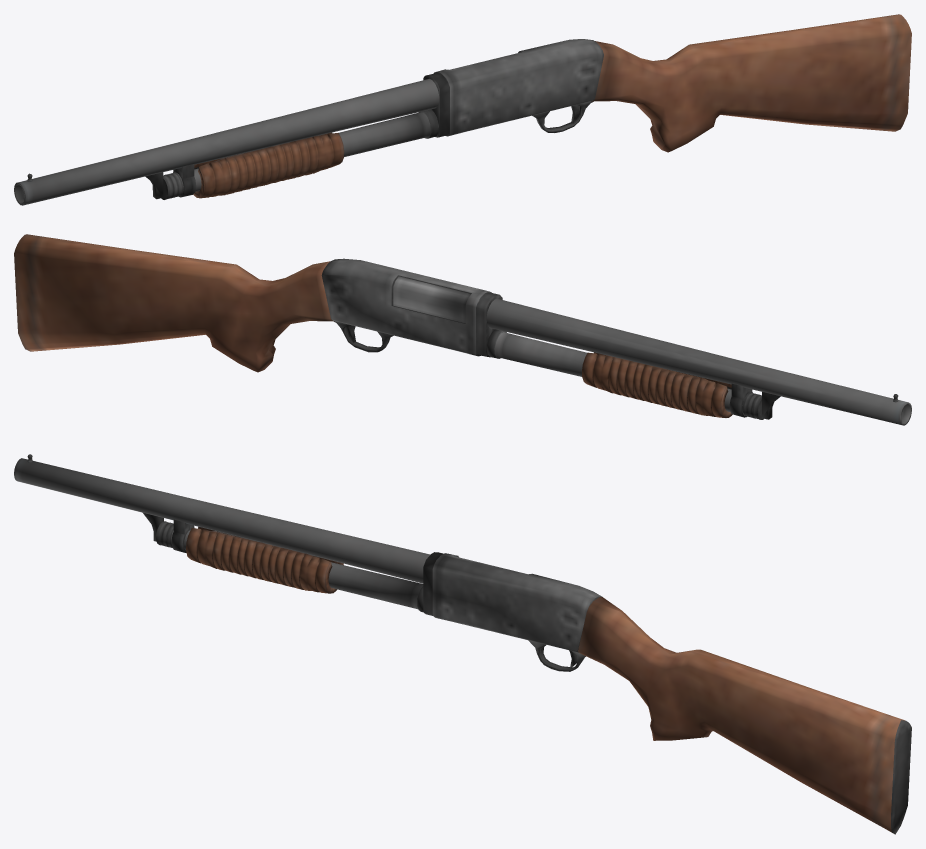
The model's file is escopeta.fbx.
3 renders of one model, top to bottom at view 1: azimuth 30°, elevation 25°; view 2: azimuth 150°, elevation 25°; view 3: azimuth 330°, elevation 25°, orthographic.
Visible parts, largest first — view 1: Shotgun_final_Cylinder.000; view 2: Shotgun_final_Cylinder.000; view 3: Shotgun_final_Cylinder.000.
Boxes of the visible parts, bbox=[...] form: Shotgun_final_Cylinder.000: bbox=[14, 14, 911, 205]; Shotgun_final_Cylinder.000: bbox=[14, 234, 911, 425]; Shotgun_final_Cylinder.000: bbox=[14, 454, 911, 834].
Size of the model in its own units: 620 by 113 by 22.98.
